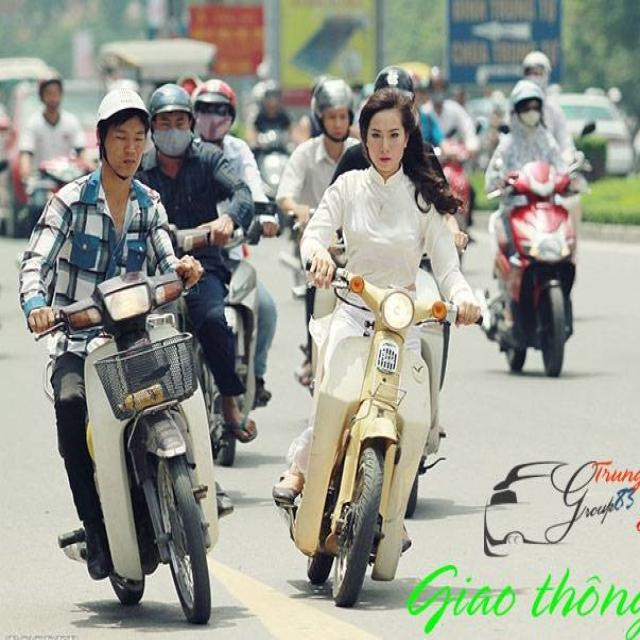no_helmet: (348, 82, 434, 194)
